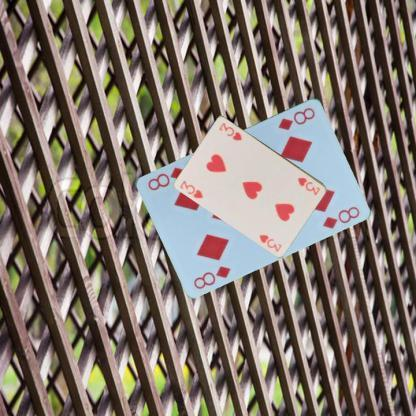3h: (295, 174, 321, 197), (177, 178, 204, 200)
8d: (190, 262, 232, 290), (276, 104, 316, 131)
